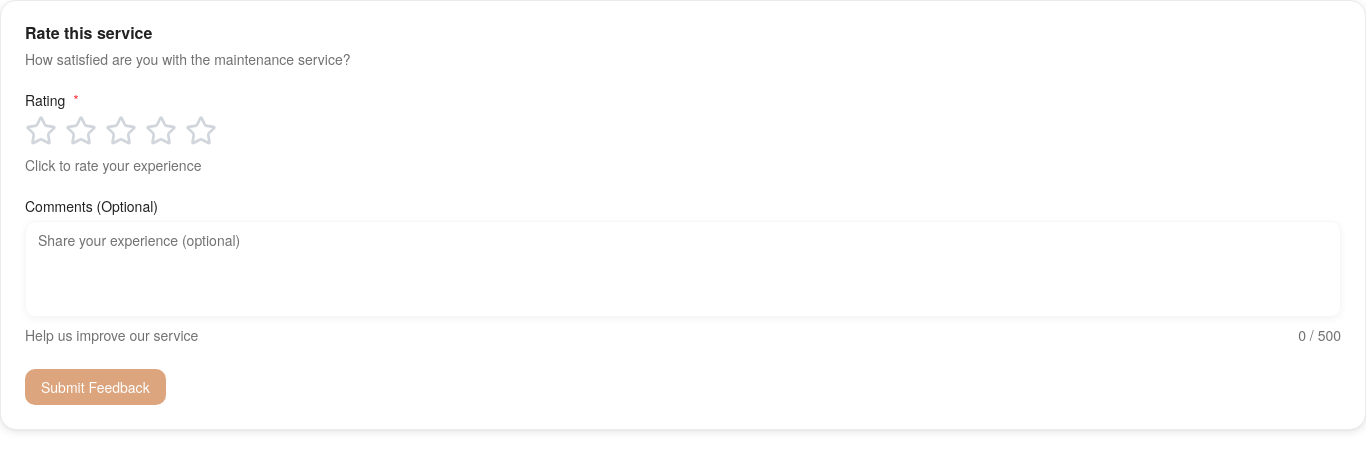
it: FeedbackForm › allows entering a comment
The width and height of the screenshot is (1366, 450).
Step 1. Type "Great service!" into the text box with test id "textarea-feedback" → (683, 269), box x1=25 y1=221 x2=1341 y2=317
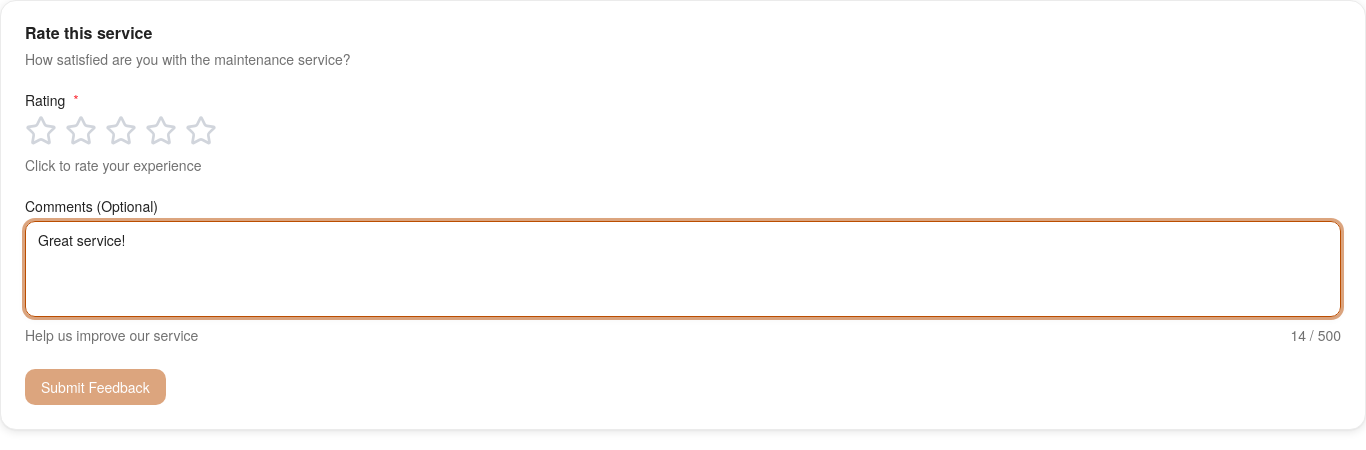
Now the text "14 / 500" is shown, box x1=1290 y1=325 x2=1341 y2=345
